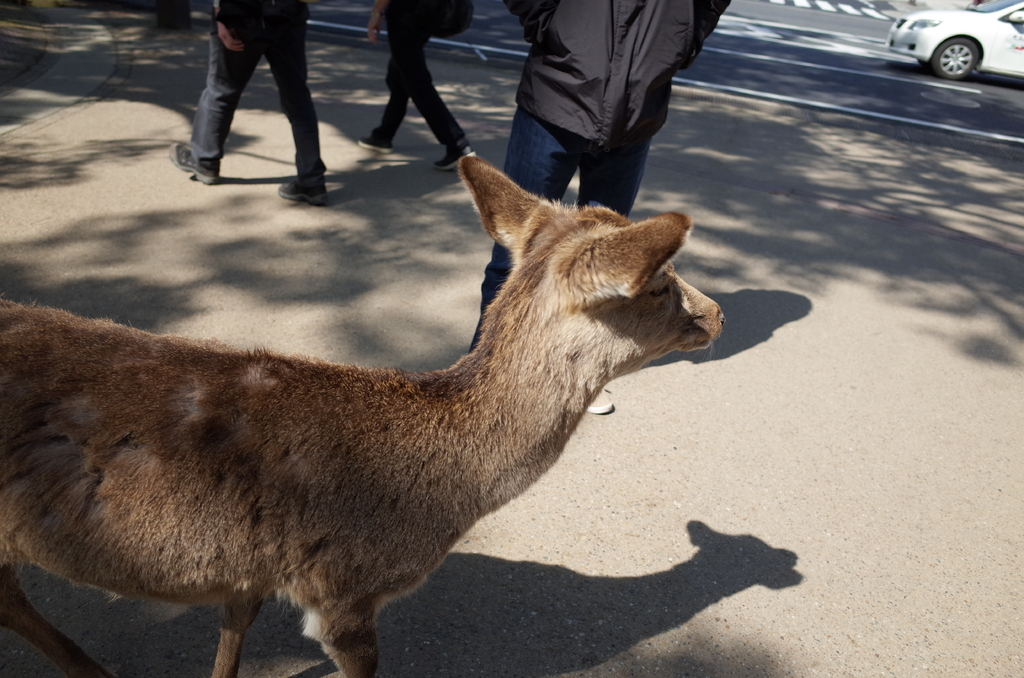cars: (891, 0, 1022, 77)
